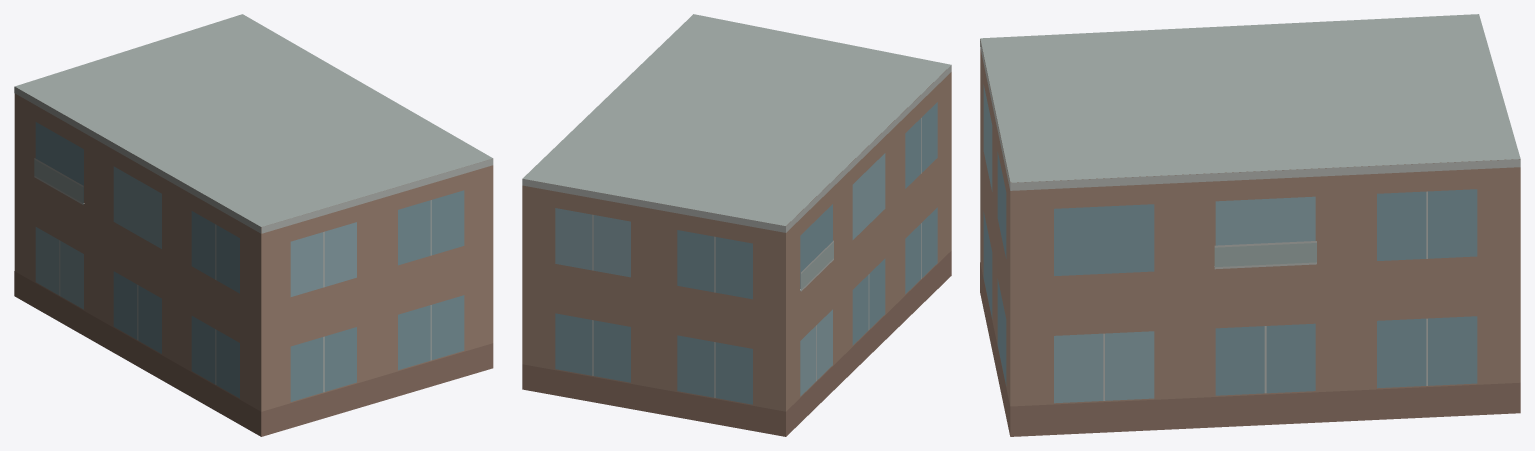
Rendered from survey-upis-33033923.glb.
3 renders of one model, left to right at view 1: azimuth 30°, elevation 25°; view 2: azimuth 150°, elevation 25°; view 3: azimuth 270°, elevation 25°, orthographic. The views are drawn at different scales.
Visible parts, largest first — view 1: survey-upis-33033923.tmp; view 2: survey-upis-33033923.tmp; view 3: survey-upis-33033923.tmp.
Part boxes in pixels (x1=…): survey-upis-33033923.tmp: x1=14, y1=14, x2=493, y2=436; survey-upis-33033923.tmp: x1=522, y1=14, x2=951, y2=436; survey-upis-33033923.tmp: x1=980, y1=14, x2=1520, y2=436.
Size of the model in its own units: 10.83 by 7.6 by 14.66.
